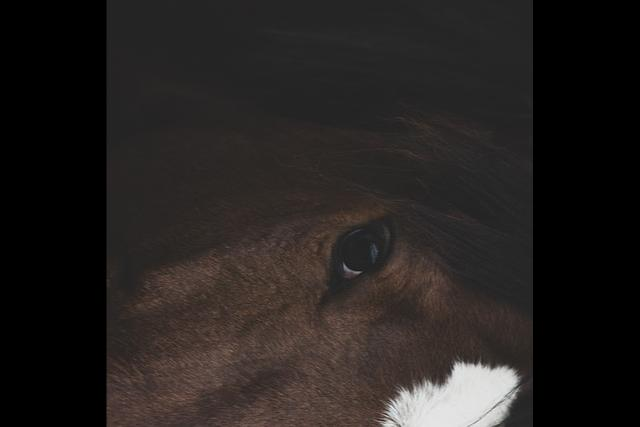Non_Gorille: (106, 129, 519, 427)
